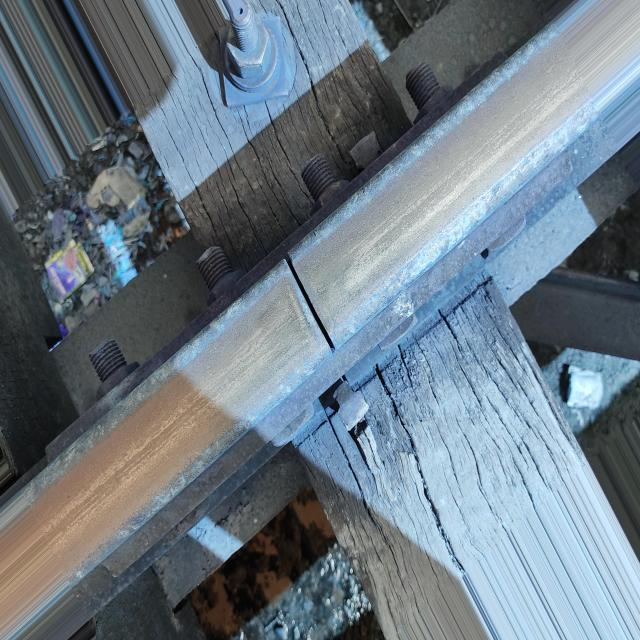crack: (263, 240, 366, 368)
